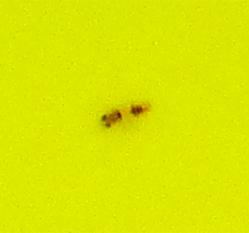Hemiptera: (100, 100, 149, 133)
